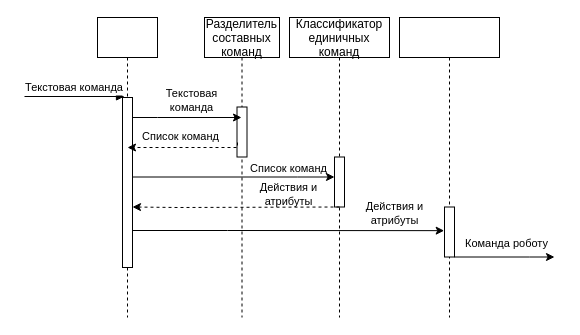
This 580x335 diagram has some shape labels left out. Here are the shapes that lost their labels. From the top down, the box of each, then its label:
(96, 16, 158, 318): Основной сервис
(398, 16, 500, 318): Преобразователь RDF
